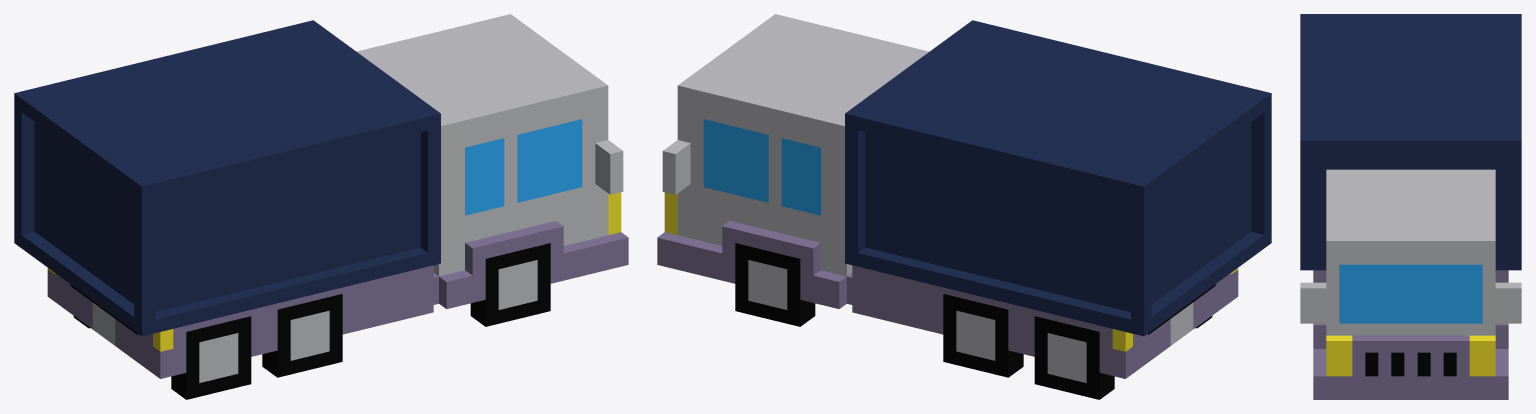
File: truck_b_c.obj
The picture shows the model from 3 angles, left to right: view 1: azimuth 30°, elevation 25°; view 2: azimuth 150°, elevation 25°; view 3: azimuth 270°, elevation 25°; orthographic projection. The views are drawn at different scales.
Bounding box in the file's own units: 3.8 × 1.7 × 1.7.
Materials: 1 (1 with a texture image).
